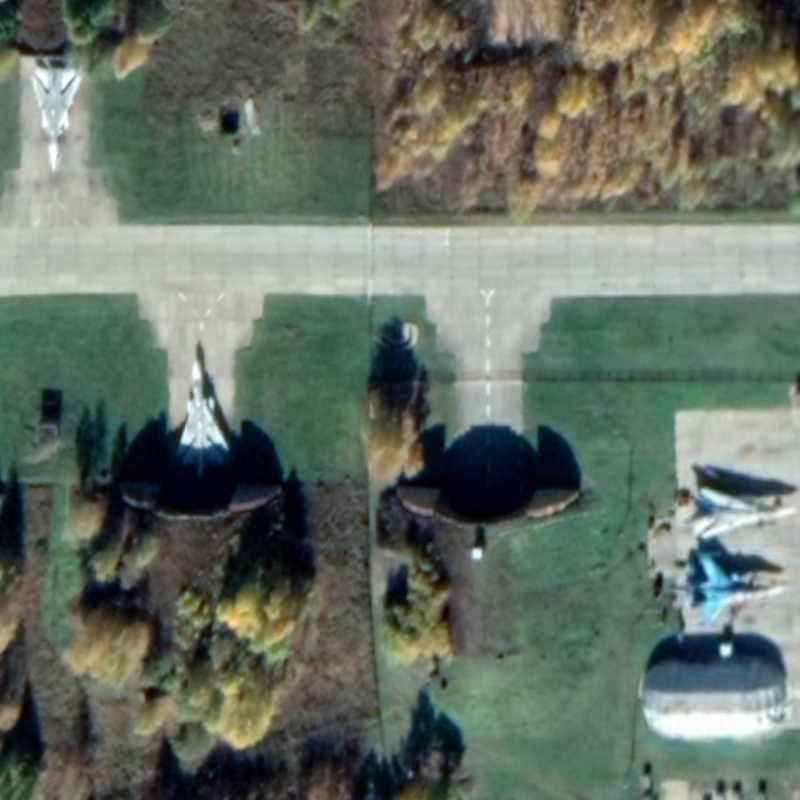A19: (682, 548, 791, 636)
A20: (174, 358, 233, 469), (689, 484, 799, 543), (27, 65, 83, 174)
